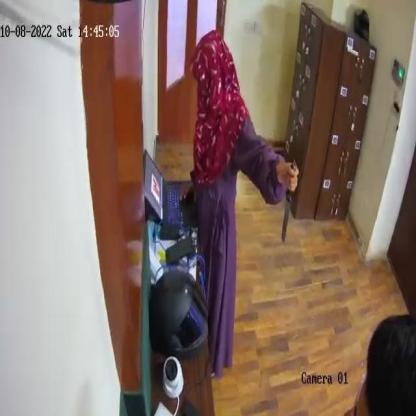Knife: (276, 153, 298, 242)
